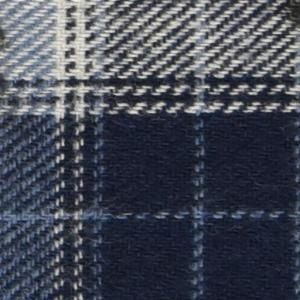Stain: (277, 1, 300, 30), (1, 24, 14, 57), (1, 70, 11, 102)
